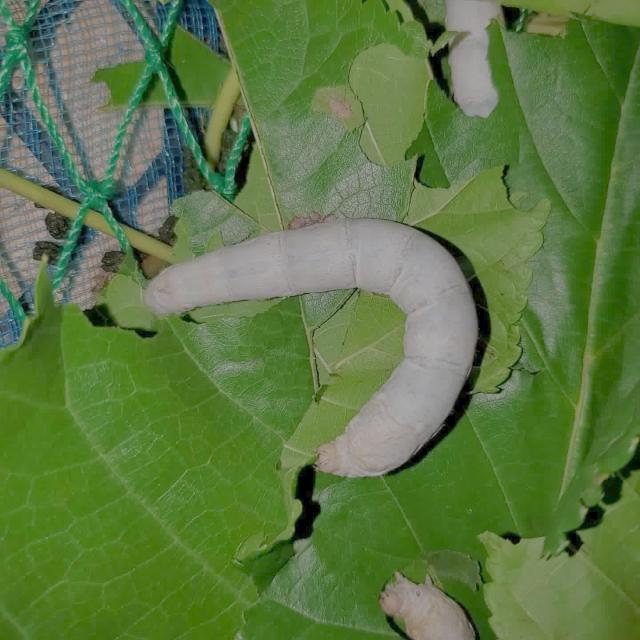Healthy: (122, 174, 534, 508)
